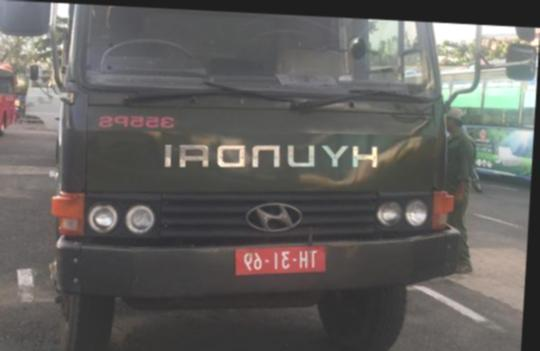License_Plate: (230, 238, 332, 286)
